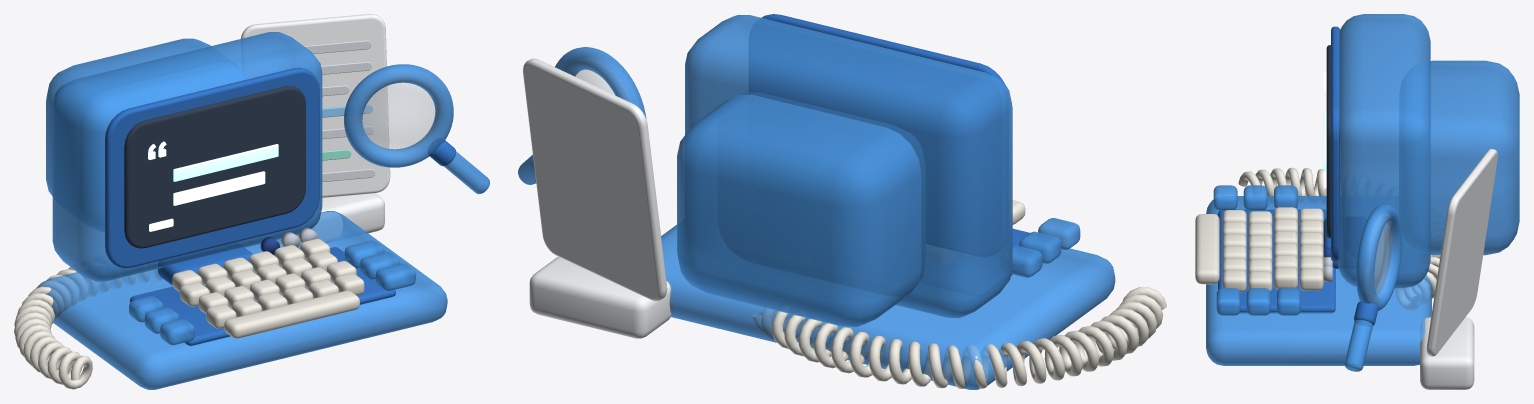
File: module-04.glb
The picture shows the model from 3 angles, left to right: view 1: azimuth 30°, elevation 25°; view 2: azimuth 150°, elevation 25°; view 3: azimuth 270°, elevation 25°; orthographic projection. The views are drawn at different scales.
Parts seen in each view (by area): view 1: crt_body, kb_base, crt_screen, crt_bezel, crt_back, source_sheet_paper, cable, lens_ring.001, lens_glass.001, key_space, kb_deck, sheet_stand (+22 smaller); view 2: crt_body, crt_back, crt_bezel, source_sheet_paper, kb_base, cable, sheet_stand, lens_ring.001, key_side_l1, key_side_l0, key_side_l2; view 3: crt_body, crt_back, kb_base, source_sheet_paper, lens_ring.001, sheet_stand, cable, kb_deck, crt_bezel, key_space, lens_handle.001, crt_screen (+33 smaller).
Boxes of the visible parts, x1,y1,x2,y2 form: crt_body: [52, 32, 322, 281]; kb_base: [37, 211, 447, 389]; crt_screen: [124, 85, 305, 248]; crt_bezel: [105, 67, 319, 268]; crt_back: [46, 38, 247, 231]; source_sheet_paper: [241, 14, 390, 197]; cable: [14, 267, 162, 389]; lens_ring.001: [344, 64, 453, 167]; lens_glass.001: [362, 82, 435, 150]; key_space: [224, 290, 359, 338]; kb_deck: [130, 247, 395, 345]; sheet_stand: [297, 193, 384, 248]; crt_body: [685, 15, 1012, 317]; crt_back: [677, 92, 925, 326]; crt_bezel: [749, 14, 1004, 256]; source_sheet_paper: [523, 58, 667, 300]; kb_base: [661, 225, 1115, 389]; cable: [752, 287, 1166, 388]; sheet_stand: [529, 256, 672, 338]; lens_ring.001: [555, 47, 646, 118]; key_side_l1: [1019, 231, 1061, 263]; key_side_l0: [1038, 218, 1080, 249]; key_side_l2: [1011, 245, 1042, 277]; crt_body: [1337, 14, 1430, 288]; crt_back: [1399, 60, 1519, 255]; kb_base: [1206, 196, 1431, 365]; source_sheet_paper: [1426, 149, 1497, 356]; lens_ring.001: [1356, 204, 1402, 310]; sheet_stand: [1420, 317, 1474, 389]; cable: [1238, 167, 1440, 310]; kb_deck: [1218, 209, 1335, 313]; crt_bezel: [1331, 26, 1339, 261]; key_space: [1195, 214, 1219, 284]; lens_handle.001: [1344, 319, 1372, 371]; crt_screen: [1326, 45, 1330, 238].
Size of the model in its own units: 3.59 by 1.66 by 2.15.
